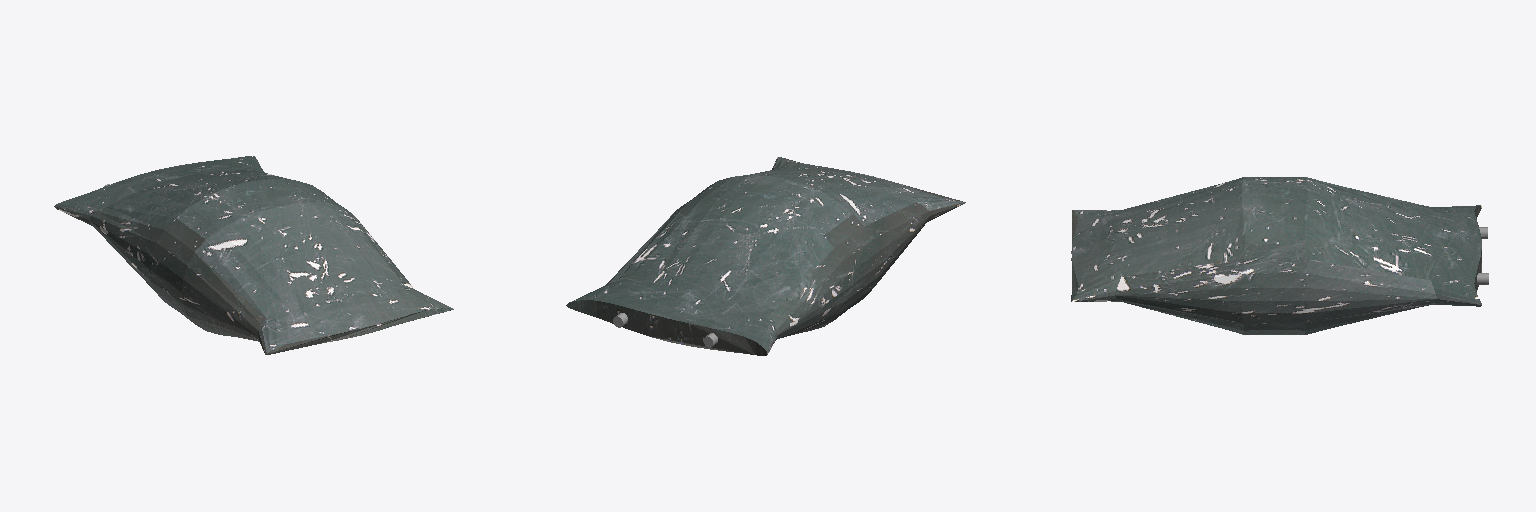
The picture shows the model from 3 angles: view 1: azimuth 30°, elevation 25°; view 2: azimuth 150°, elevation 25°; view 3: azimuth 270°, elevation 25°; orthographic projection.
Parts seen in each view (by area): view 1: Cube; view 2: Cube; view 3: Cube.
Boxes of the visible parts, x1,y1,x2,y2 form: Cube: [54, 156, 453, 354]; Cube: [566, 157, 965, 355]; Cube: [1071, 177, 1481, 334].
Size of the model in its own units: 0.2864 by 0.1703 by 0.5133.
2 materials, 1 textured.